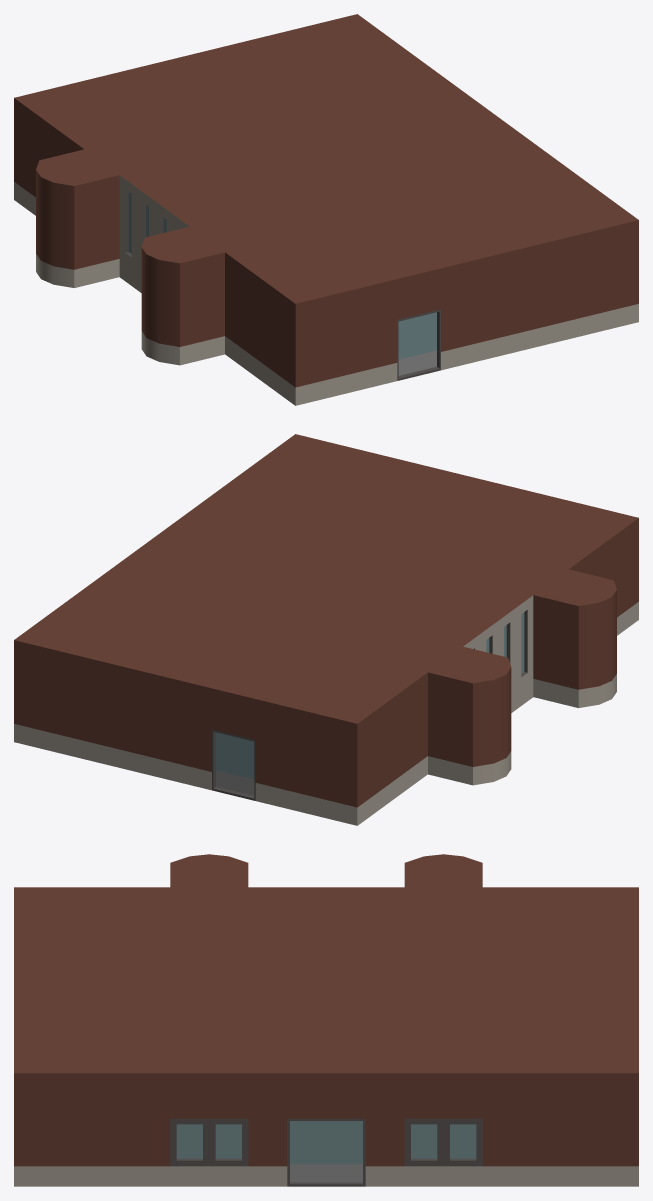
The model's file is Split_Base.fbx.
3 views of the same model, one above another, from view 1: azimuth 30°, elevation 25°; view 2: azimuth 150°, elevation 25°; view 3: azimuth 270°, elevation 25° (orthographic). The views are drawn at different scales.
Parts seen in each view (by area): view 1: Split_Building_Base; view 2: Split_Building_Base; view 3: Split_Building_Base.
Boxes of the visible parts, x1,y1,x2,y2 form: Split_Building_Base: (14,14,638,405); Split_Building_Base: (14,434,638,825); Split_Building_Base: (14,854,638,1186).
Bounding box in the file's own units: 2074 × 500 × 2500.
